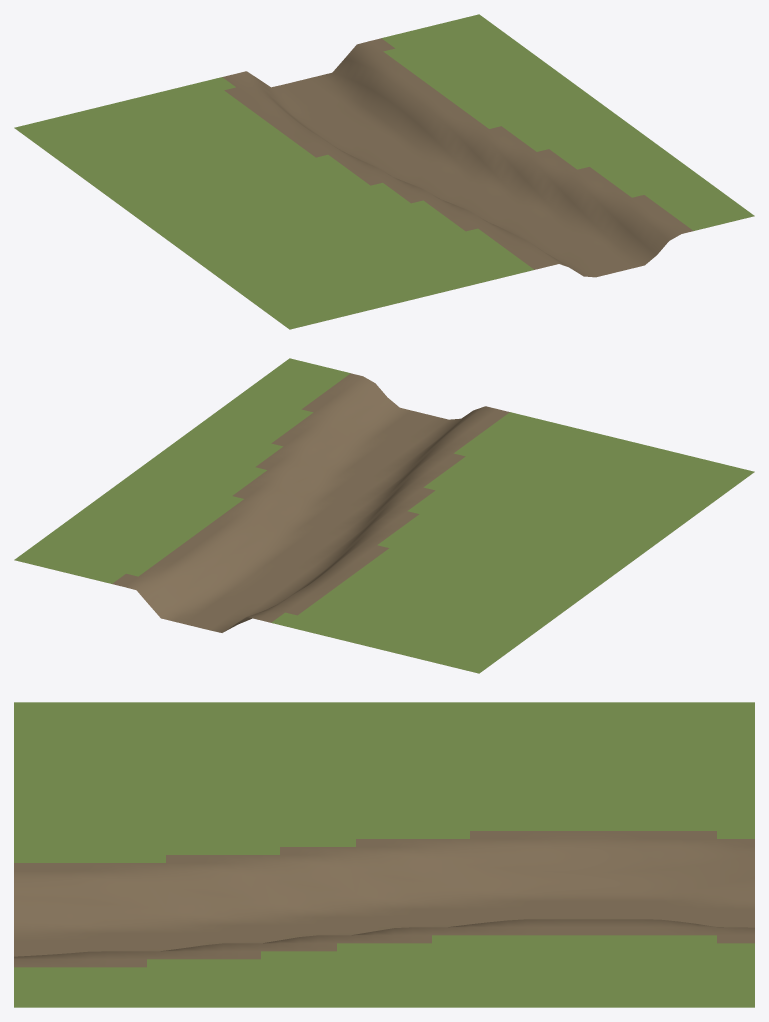
File: region_1_2.glb
3 renders of one model, top to bottom at view 1: azimuth 30°, elevation 25°; view 2: azimuth 150°, elevation 25°; view 3: azimuth 270°, elevation 25°, orthographic. The views are drawn at different scales.
Parts seen in each view (by area): view 1: OD_Meadow.018, OD_Ground.018; view 2: OD_Meadow.018, OD_Ground.018; view 3: OD_Meadow.018, OD_Ground.018.
Part boxes in pixels (x1,y1,x2,y2): OD_Meadow.018: (14, 14, 754, 329); OD_Ground.018: (222, 38, 693, 277); OD_Meadow.018: (14, 358, 754, 673); OD_Ground.018: (112, 373, 509, 632); OD_Meadow.018: (14, 702, 754, 1007); OD_Ground.018: (14, 831, 754, 967).
Bounding box in the file's own units: 31.52 × 1.46 × 32.35.
